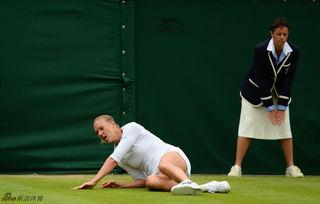bending: (226, 17, 304, 182)
down: (69, 106, 234, 198)
